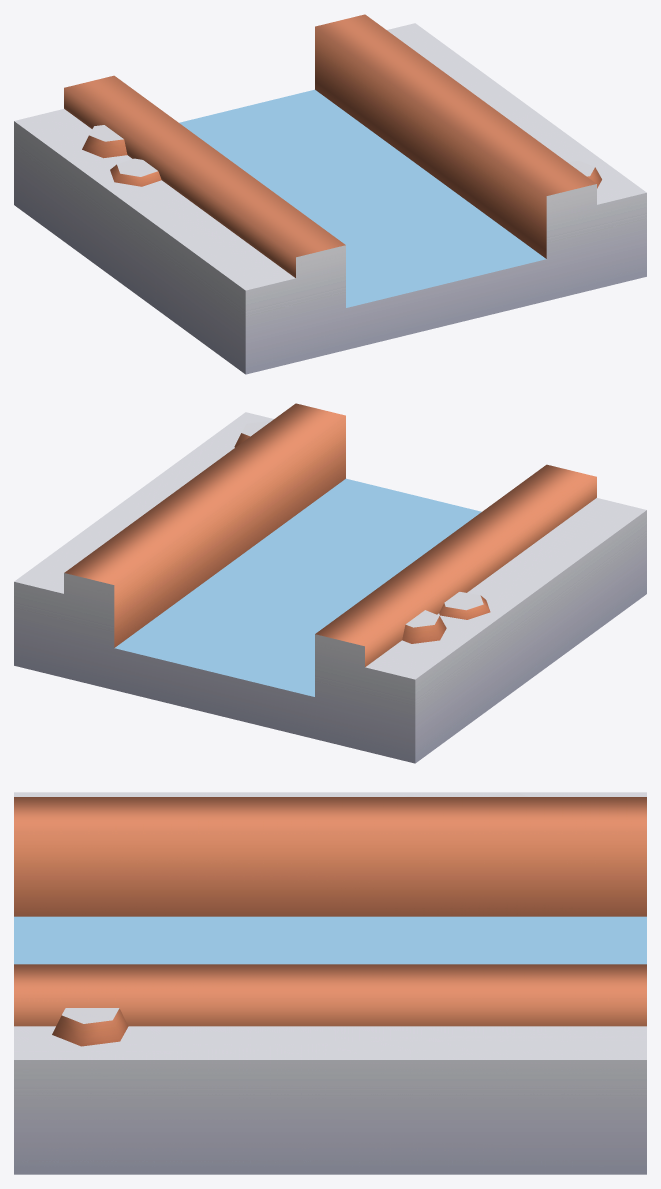
File: snow-tile-river-straight.glb
3 renders of one model, top to bottom at view 1: azimuth 30°, elevation 25°; view 2: azimuth 150°, elevation 25°; view 3: azimuth 270°, elevation 25°, orthographic. The views are drawn at different scales.
Visible parts, largest first — view 1: snow-tile-river-straight; view 2: snow-tile-river-straight; view 3: snow-tile-river-straight.
Part boxes in pixels (x1,y1,x2,y2): snow-tile-river-straight: (14, 14, 646, 374); snow-tile-river-straight: (14, 403, 646, 763); snow-tile-river-straight: (14, 792, 646, 1174).
Bounding box in the file's own units: 1 × 0.25 × 1.
1 material, 1 textured.
